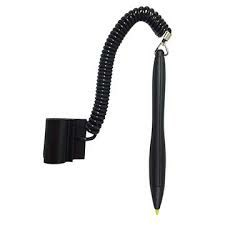pen: (147, 45, 169, 216)
